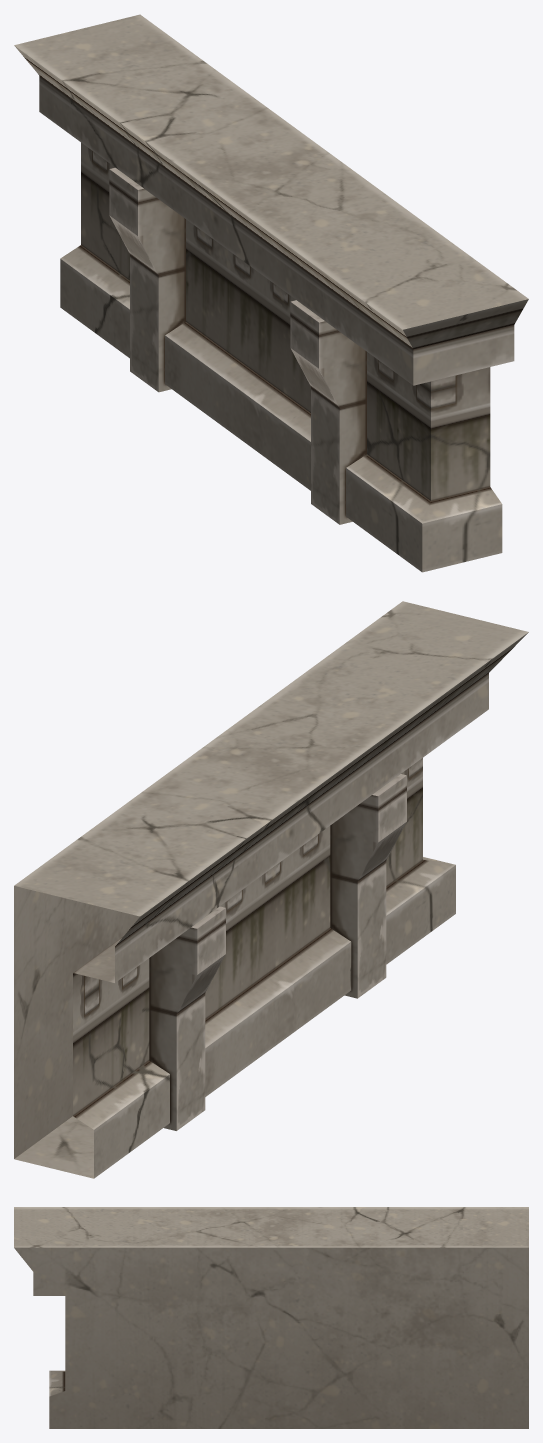
File: cornice01_endR.fbx
3 views of the same model, one above another, from view 1: azimuth 30°, elevation 25°; view 2: azimuth 150°, elevation 25°; view 3: azimuth 270°, elevation 25° (orthographic). The views are drawn at different scales.
Visible parts, largest first — view 1: cornice01_endR; view 2: cornice01_endR; view 3: cornice01_endR.
Part boxes in pixels (box(x1,y1,x2,y2)): cornice01_endR: box(14, 14, 528, 572); cornice01_endR: box(14, 601, 528, 1178); cornice01_endR: box(14, 1207, 528, 1428).
Bounding box in the file's own units: 60.38 × 128 × 322.
